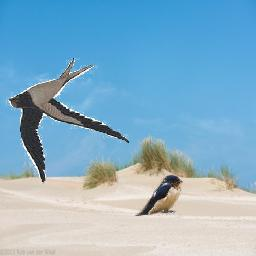Swallow: (7, 58, 130, 184), (135, 174, 183, 216)
